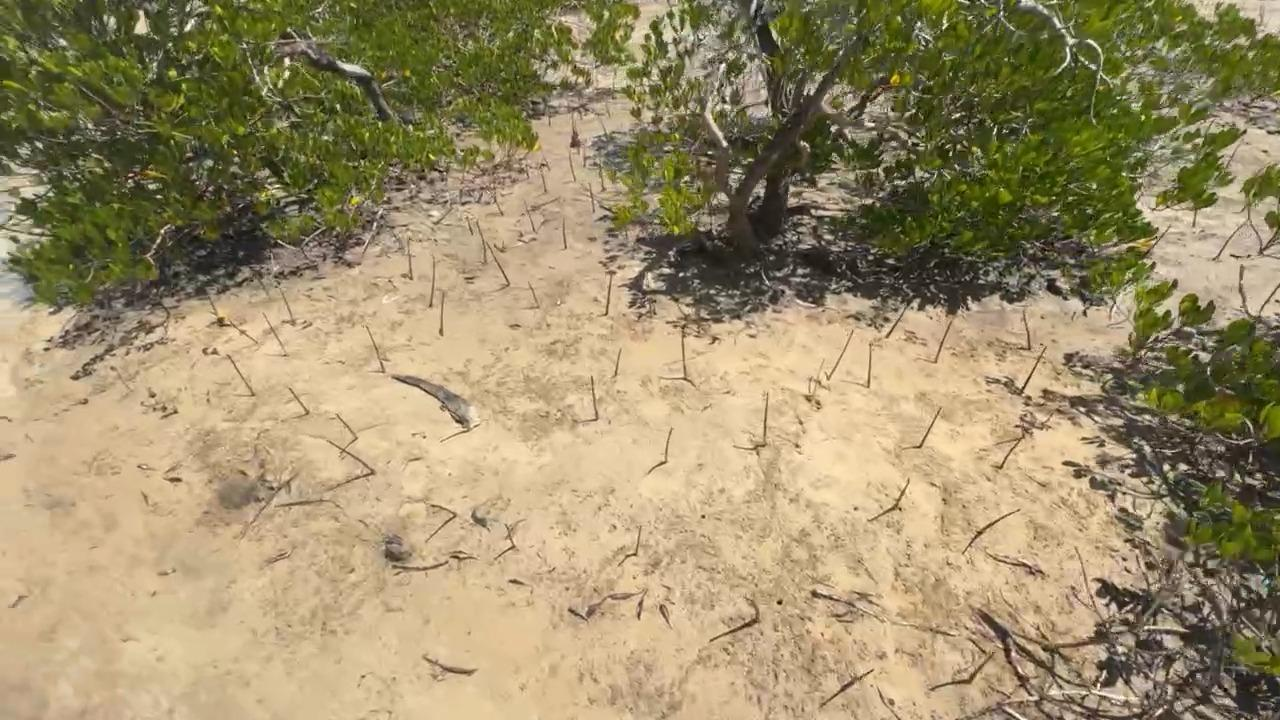Tree: (586, 589, 647, 620), (326, 439, 376, 475), (827, 330, 854, 381), (1020, 345, 1047, 394), (226, 353, 256, 396), (486, 240, 511, 285), (263, 312, 288, 355), (918, 407, 943, 448), (365, 325, 386, 373), (968, 651, 997, 683), (983, 508, 1021, 532), (999, 435, 1024, 468), (934, 320, 953, 363), (334, 412, 359, 440), (229, 320, 259, 343), (886, 305, 907, 337), (289, 387, 310, 415), (476, 219, 488, 263), (894, 477, 910, 510), (744, 595, 761, 622), (279, 288, 293, 320), (523, 200, 536, 232), (604, 270, 613, 315), (591, 375, 599, 420), (429, 256, 436, 307), (430, 503, 457, 516), (1022, 310, 1031, 349), (665, 426, 674, 463), (566, 607, 588, 622), (389, 565, 419, 576), (528, 281, 540, 308), (763, 392, 769, 445), (681, 328, 687, 379), (421, 655, 442, 669), (439, 291, 445, 335), (505, 523, 516, 547), (568, 150, 576, 182), (614, 347, 622, 376), (867, 342, 872, 388), (859, 668, 876, 681), (588, 182, 595, 213), (635, 525, 642, 556), (508, 578, 532, 587), (494, 198, 505, 216), (408, 241, 413, 279), (540, 167, 547, 194), (449, 555, 478, 561), (465, 216, 474, 234), (562, 217, 567, 249), (599, 166, 605, 192)
